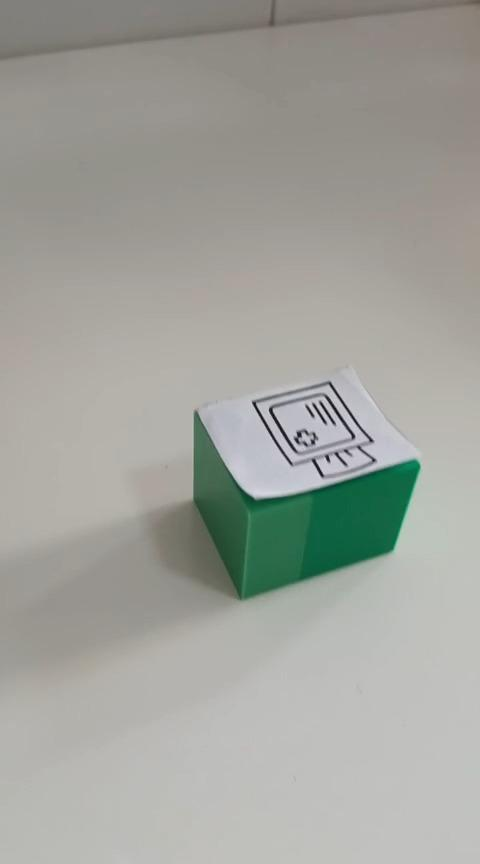Gauze: (191, 362, 421, 600)
